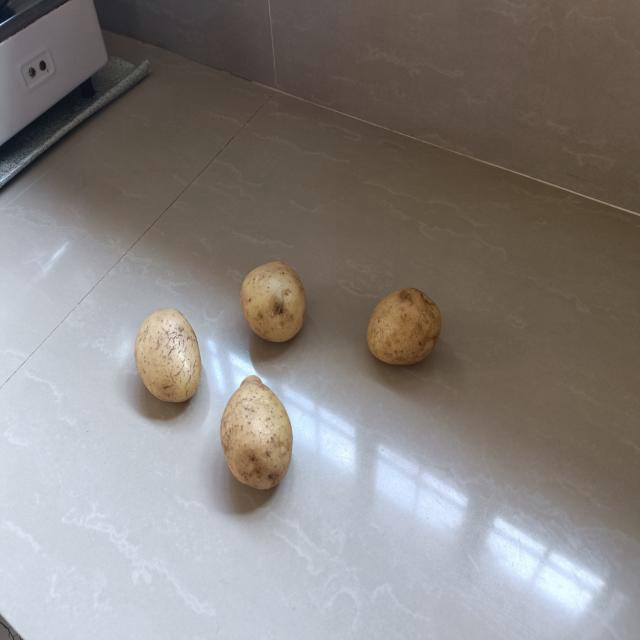potato: (219, 371, 295, 497), (133, 306, 203, 411), (364, 282, 444, 368), (238, 255, 307, 344)
